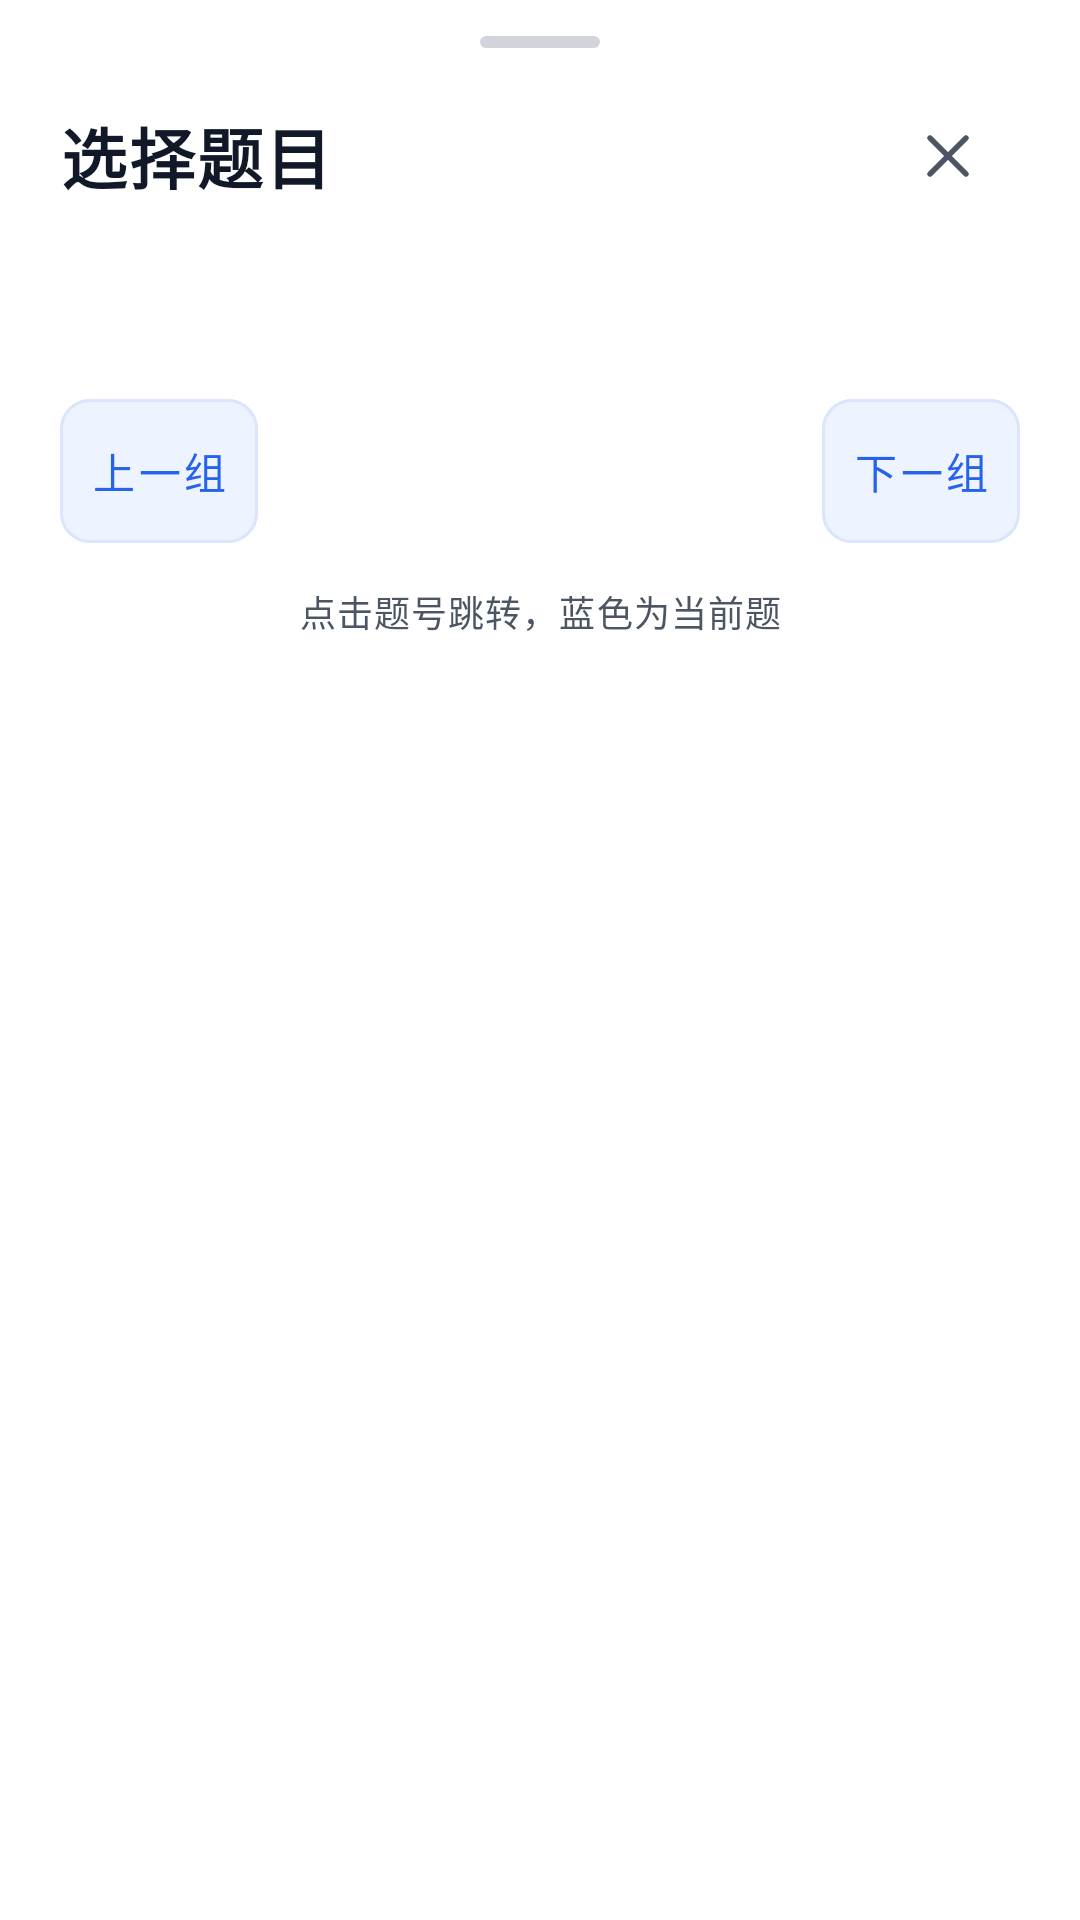

Named icons in this screenshot (1080px×1920px) and their bounding boxes, (x1, y1, x2, y2):
关闭题目选择: (927, 135, 969, 177)
